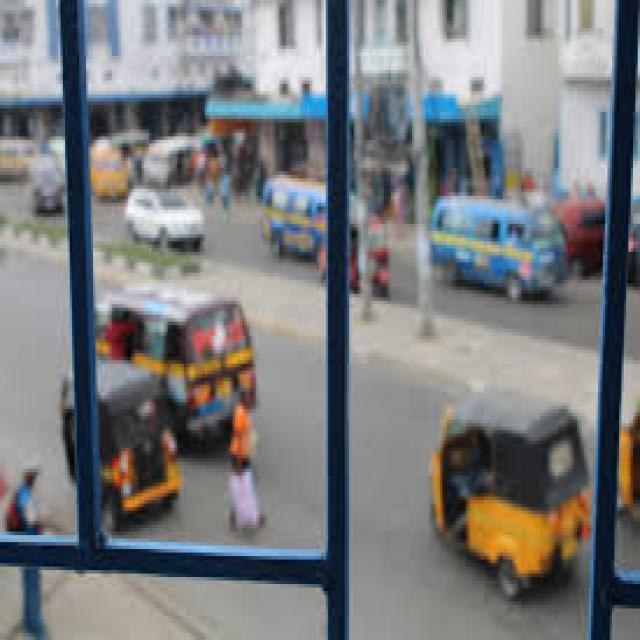matatu: (422, 180, 577, 332), (93, 270, 260, 368), (258, 176, 357, 276), (143, 131, 206, 178), (4, 139, 46, 181)
tuktuk: (419, 376, 594, 615), (33, 378, 212, 528), (95, 135, 136, 221)
